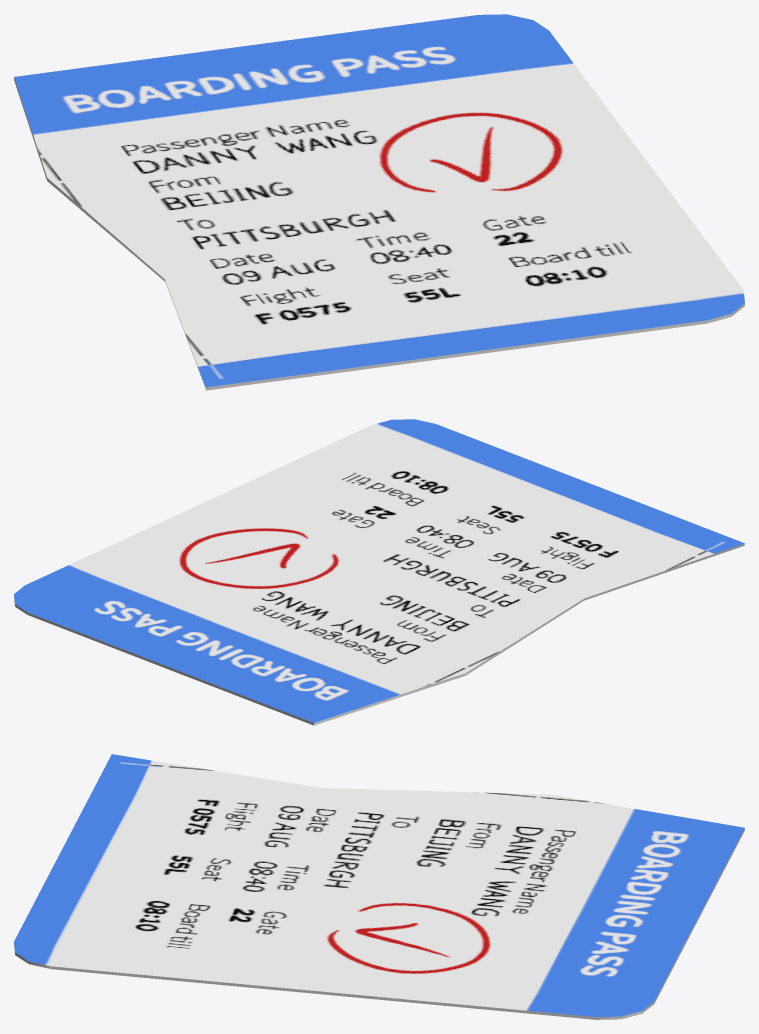
The model's file is ripped ticket part 2.fbx.
3 views of the same model, one above another, from view 1: azimuth 30°, elevation 25°; view 2: azimuth 150°, elevation 25°; view 3: azimuth 270°, elevation 25° (orthographic). The views are drawn at different scales.
Parts seen in each view (by area): view 1: polySurface4; view 2: polySurface4; view 3: polySurface4.
Boxes of the visible parts, bbox=[...] form: polySurface4: bbox=[14, 14, 744, 390]; polySurface4: bbox=[14, 419, 744, 725]; polySurface4: bbox=[14, 754, 744, 1019].
Bounding box in the file's own units: 9.22 × 0.0455 × 10.82.
2 materials, 1 textured.
